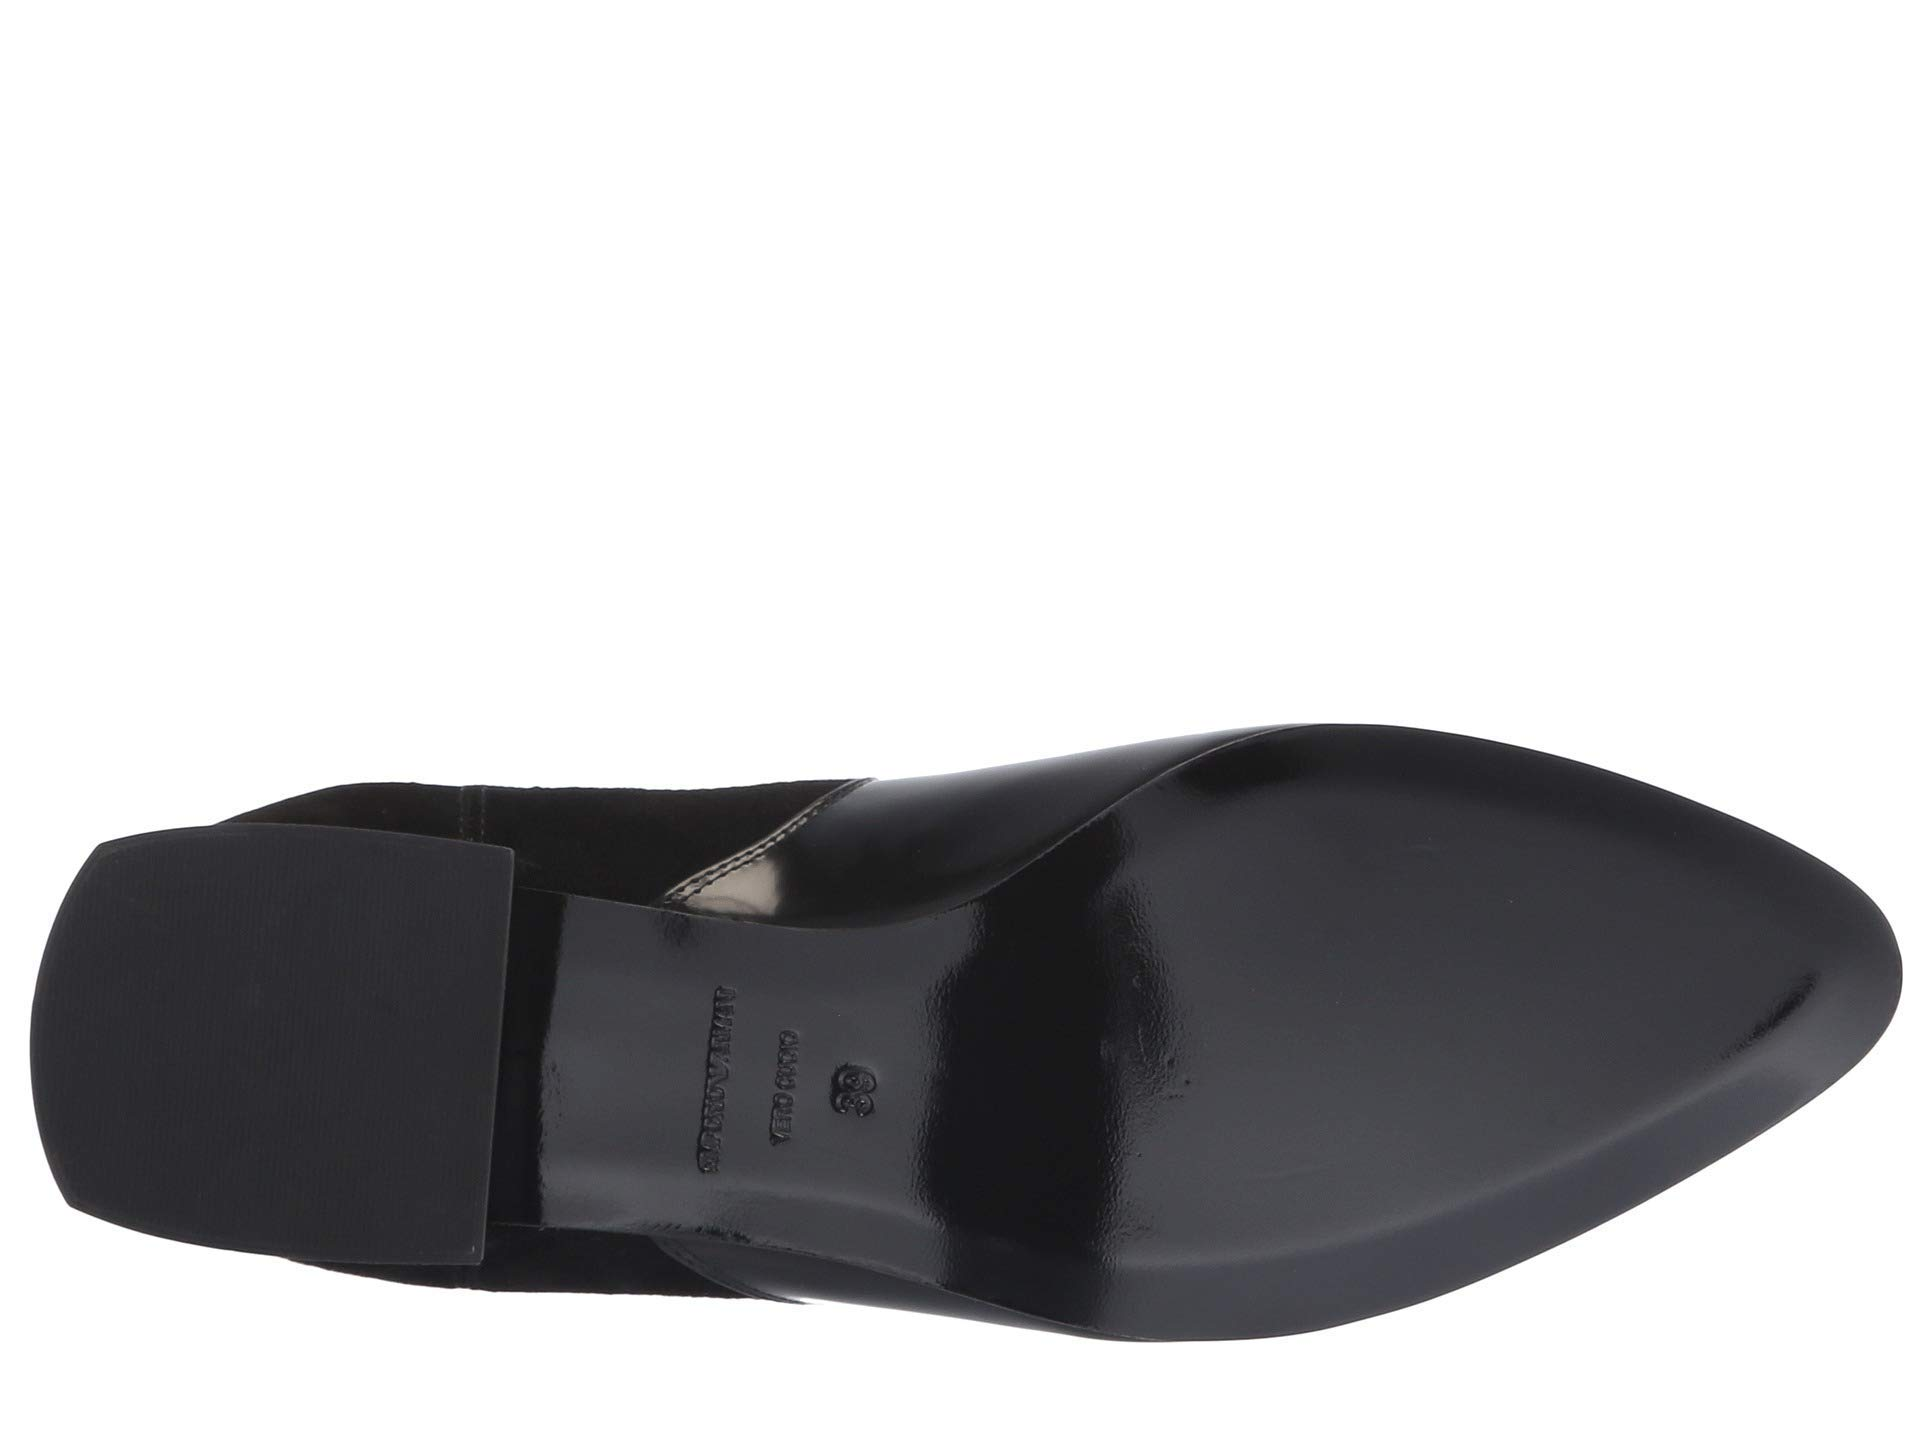other: (1197, 777, 1666, 1159), (113, 889, 441, 1199)
